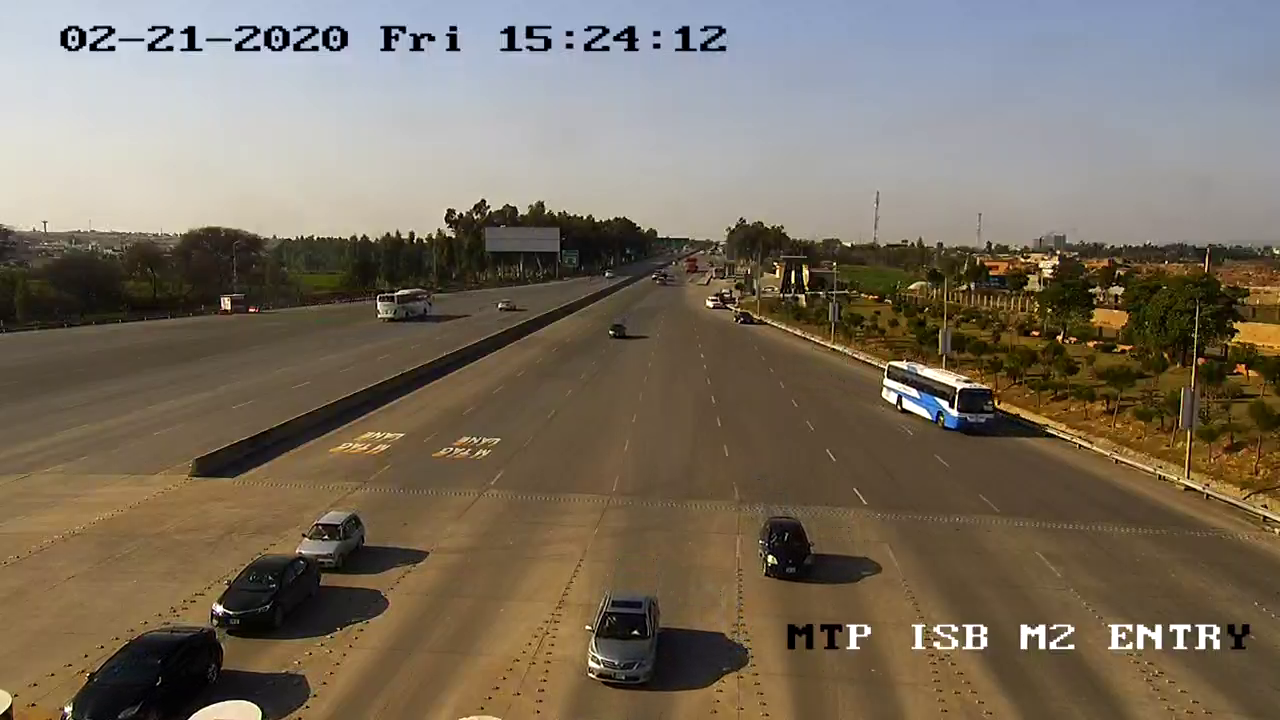f1: (206, 546, 328, 646), (580, 588, 670, 698), (753, 504, 822, 591)
f4: (875, 351, 999, 446)
